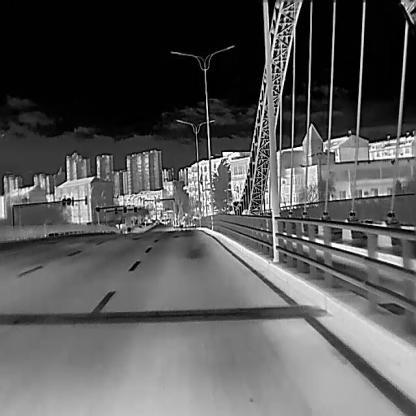car: (125, 226, 131, 233), (140, 221, 145, 227)
